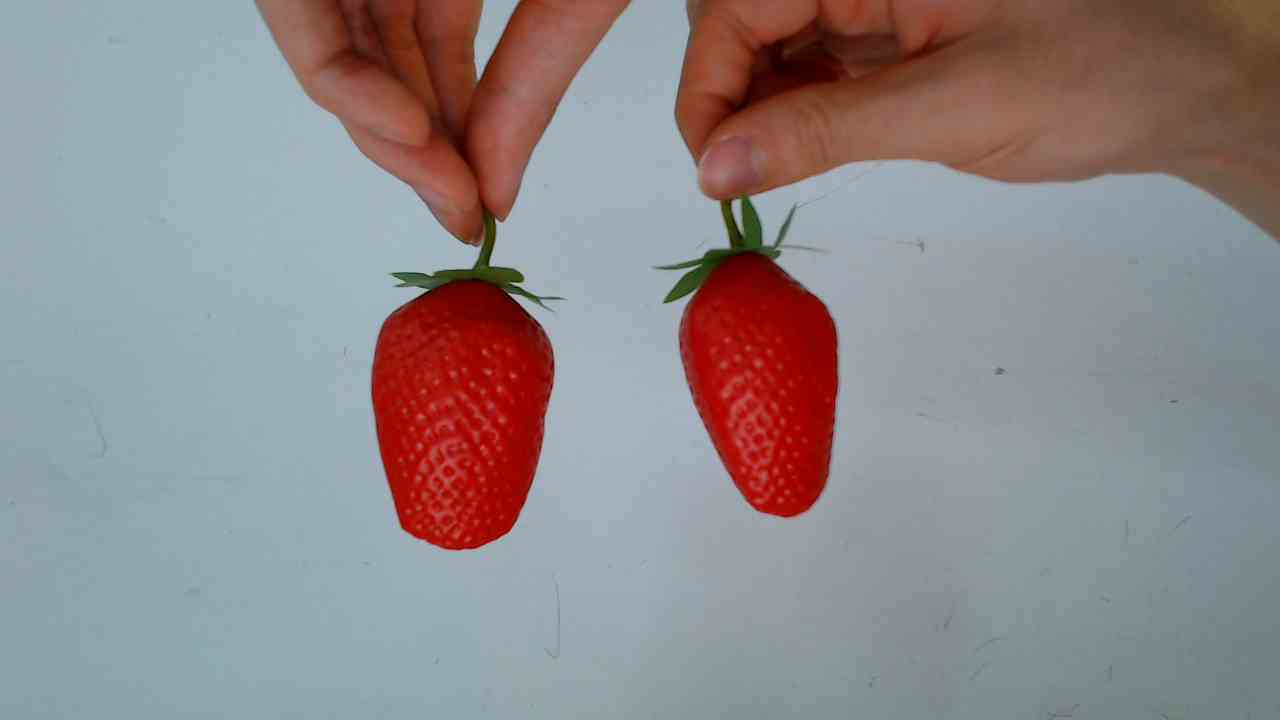strawberry: (649, 236, 871, 524), (361, 260, 563, 557)
